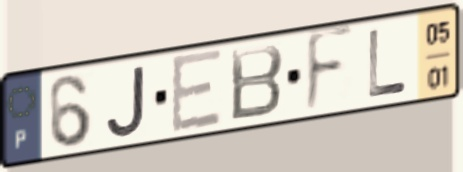6: (47, 71, 96, 153)
B: (228, 42, 286, 125)
E: (169, 46, 225, 138)
F: (302, 22, 357, 120)
J: (104, 62, 148, 140)
L: (366, 27, 410, 101)
